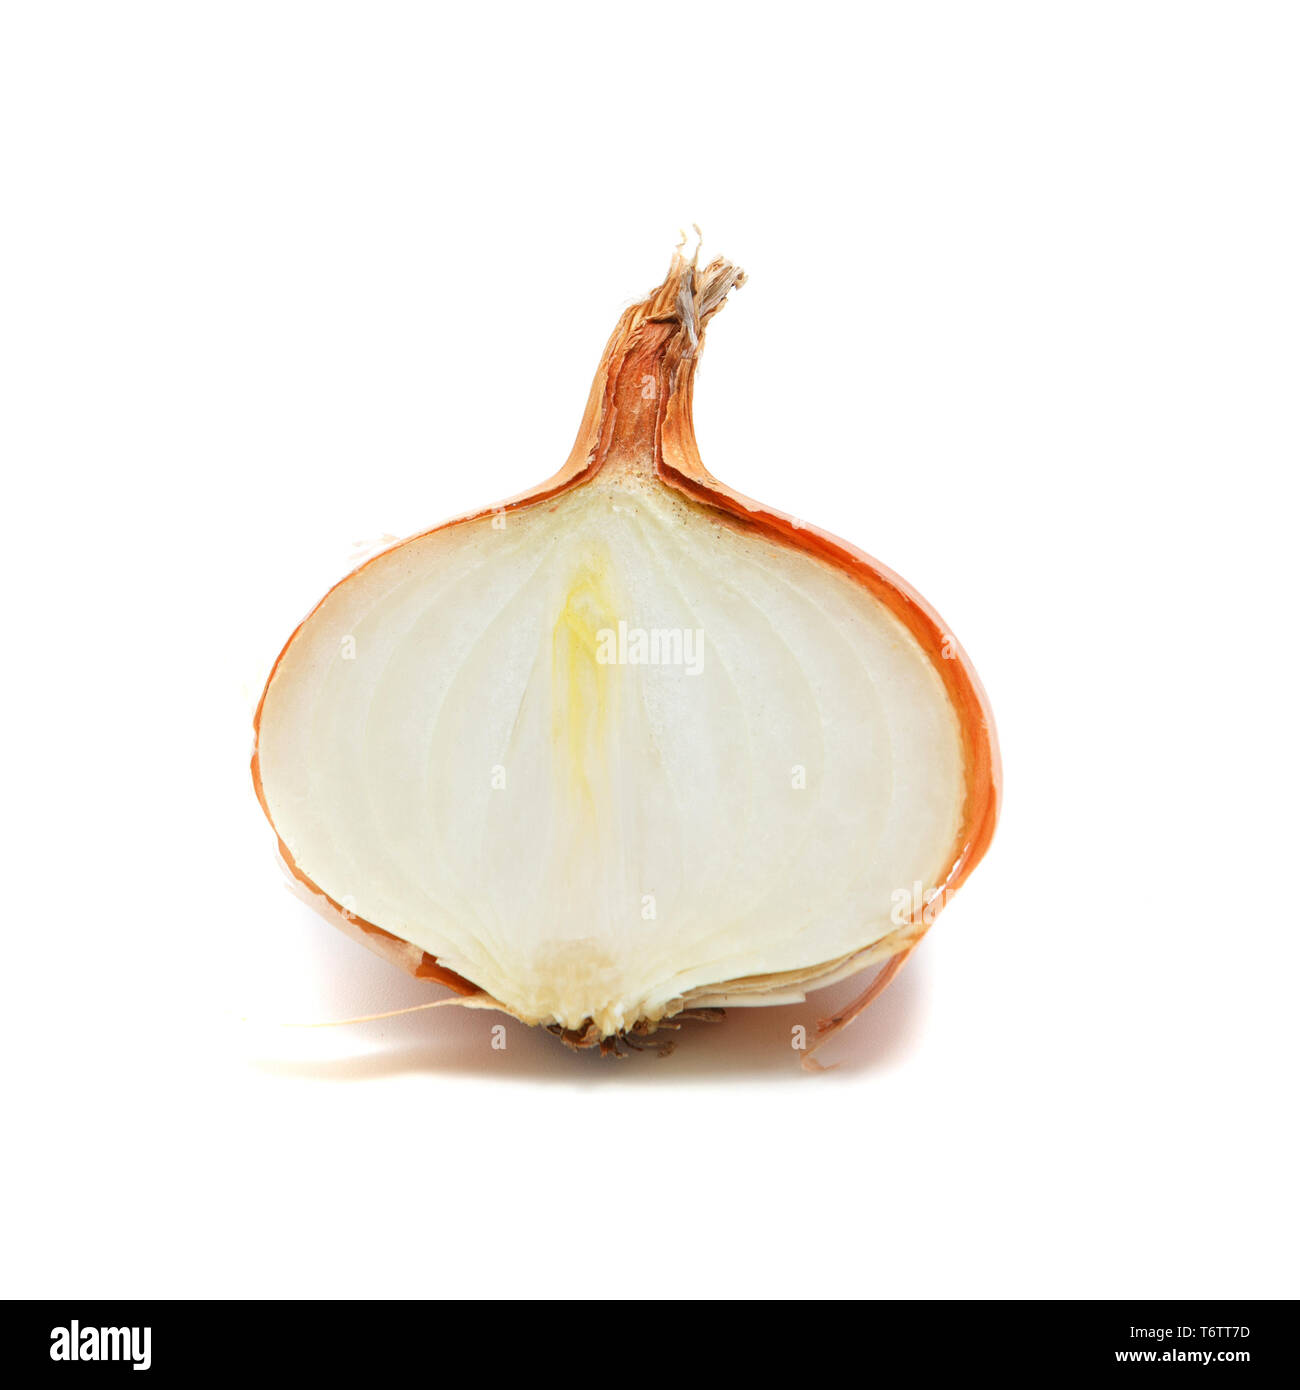onion: (239, 166, 1024, 1091)
